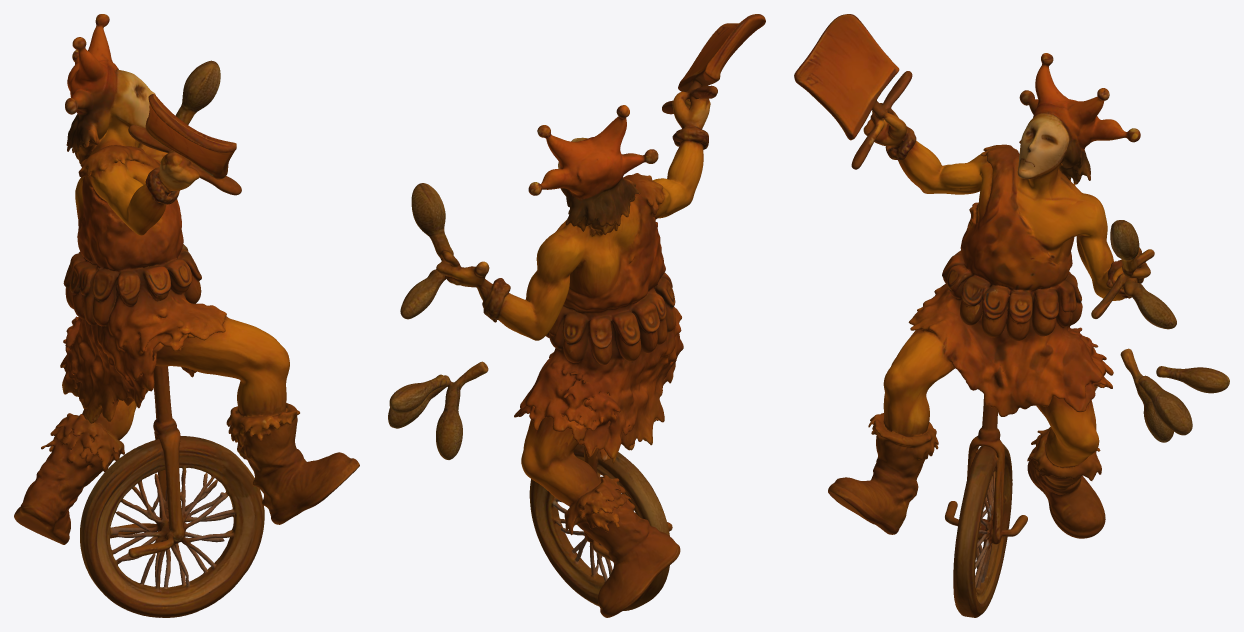
The picture shows the model from 3 angles, left to right: view 1: azimuth 30°, elevation 25°; view 2: azimuth 150°, elevation 25°; view 3: azimuth 270°, elevation 25°; orthographic projection. The views are drawn at different scales.
Parts seen in each view (by area): view 1: tripo_node_26061107-5e9a-4d0a-a9cb-af83e1455b7a; view 2: tripo_node_26061107-5e9a-4d0a-a9cb-af83e1455b7a; view 3: tripo_node_26061107-5e9a-4d0a-a9cb-af83e1455b7a.
Boxes of the visible parts, x1,y1,x2,y2 form: tripo_node_26061107-5e9a-4d0a-a9cb-af83e1455b7a: [14, 14, 359, 617]; tripo_node_26061107-5e9a-4d0a-a9cb-af83e1455b7a: [388, 14, 765, 617]; tripo_node_26061107-5e9a-4d0a-a9cb-af83e1455b7a: [794, 14, 1229, 617].
Size of the model in its own units: 0.4176 by 1 by 0.7116.
Materials: 1 (1 with a texture image).
